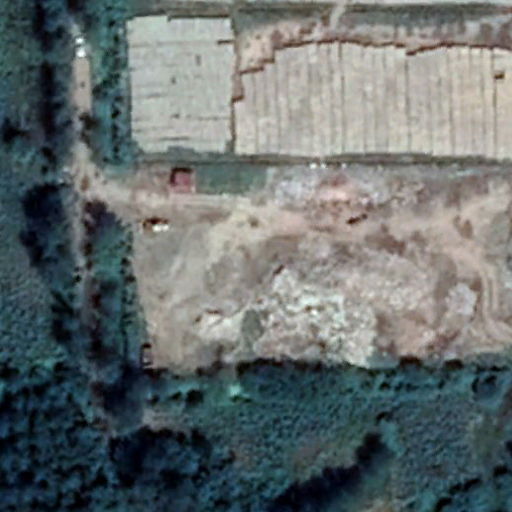msw: (227, 243, 481, 367), (263, 160, 438, 204)
